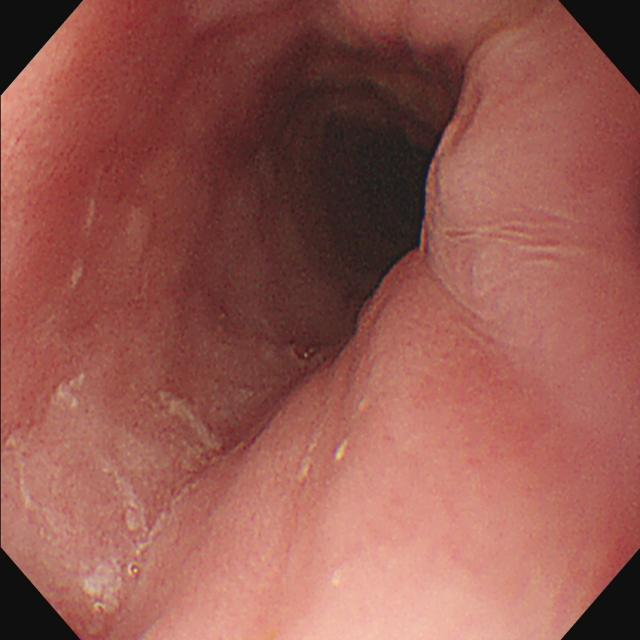E: (288, 102, 441, 288)
J: (3, 375, 222, 617)
